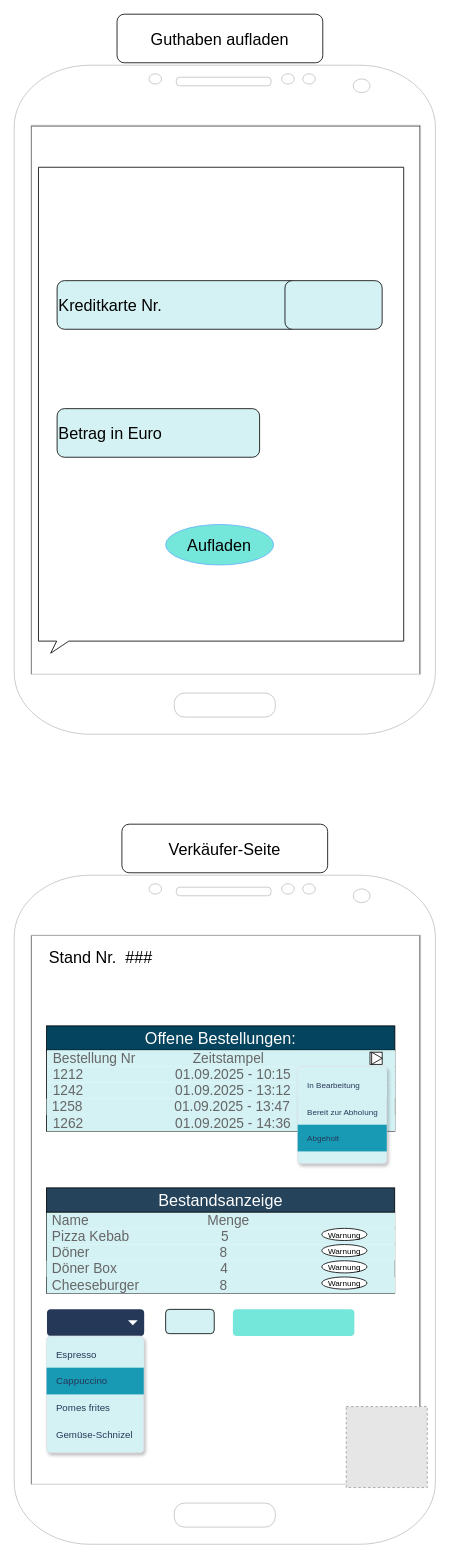
This 450x1558 diagram has some shape labels left out. Grey dashed boxes stand in for pictures. Here are the shapes that lost their labels. From the top down, the centre of each, then its label:
At pixel 333 304: "PIN".
At pixel 95 1322: "Produkt wählen".
At pixel 189 1321: "Menge".
At pixel 293 1322: "Bestand hinzufügen".
